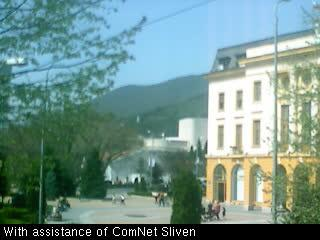person: (214, 200, 220, 221), (158, 191, 165, 208), (200, 204, 207, 221), (208, 201, 214, 220), (120, 193, 126, 208), (112, 192, 117, 208), (154, 191, 159, 207), (222, 206, 226, 221)
